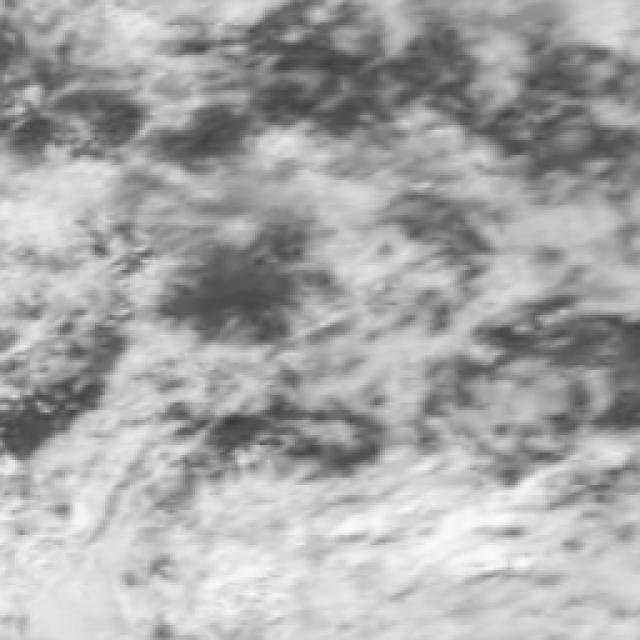CB: (375, 502, 640, 640), (0, 477, 164, 640), (170, 512, 377, 640)
